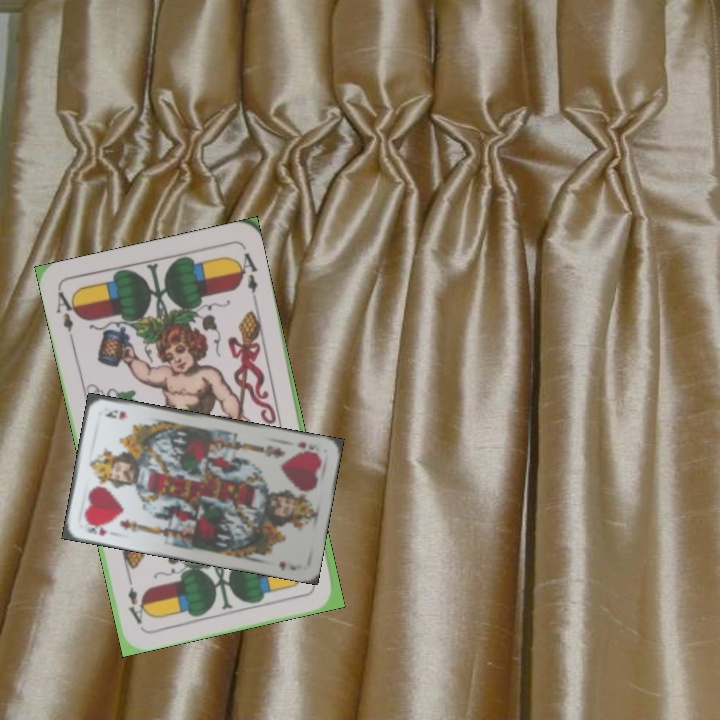EA: (51, 287, 81, 344)
HK: (81, 519, 110, 539), (293, 437, 321, 457)
